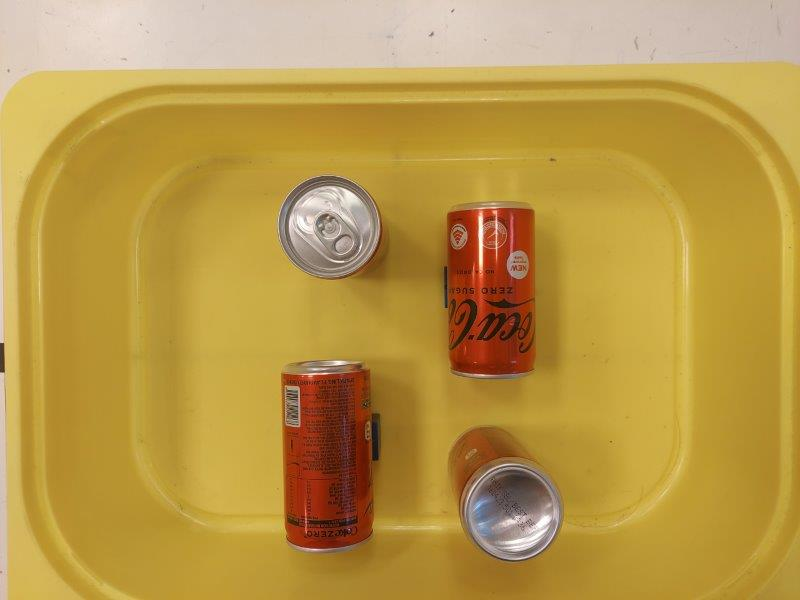Coke: (281, 361, 372, 550), (448, 426, 564, 562), (447, 204, 537, 378), (278, 174, 382, 281)
